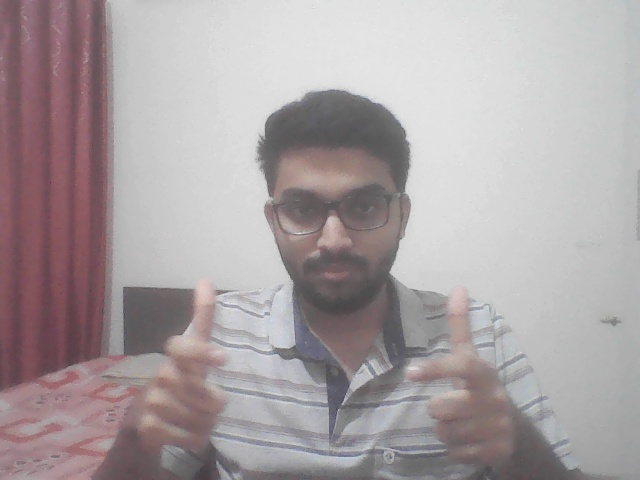big: (116, 277, 553, 478)
